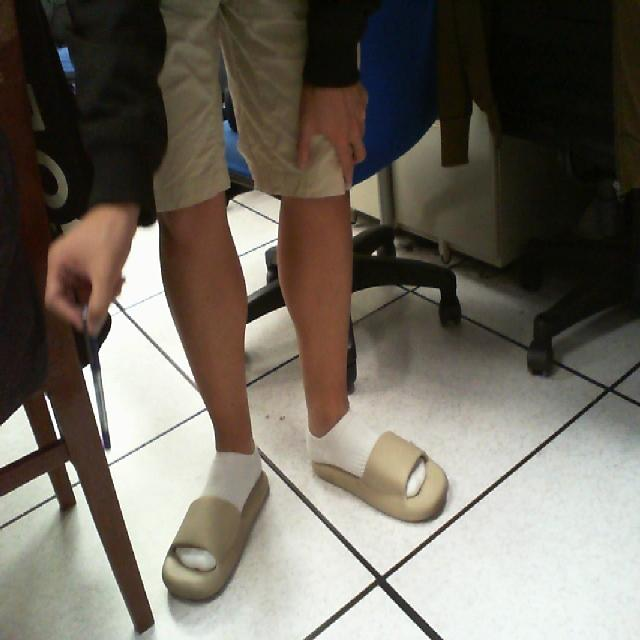Pen: (67, 285, 122, 464)
